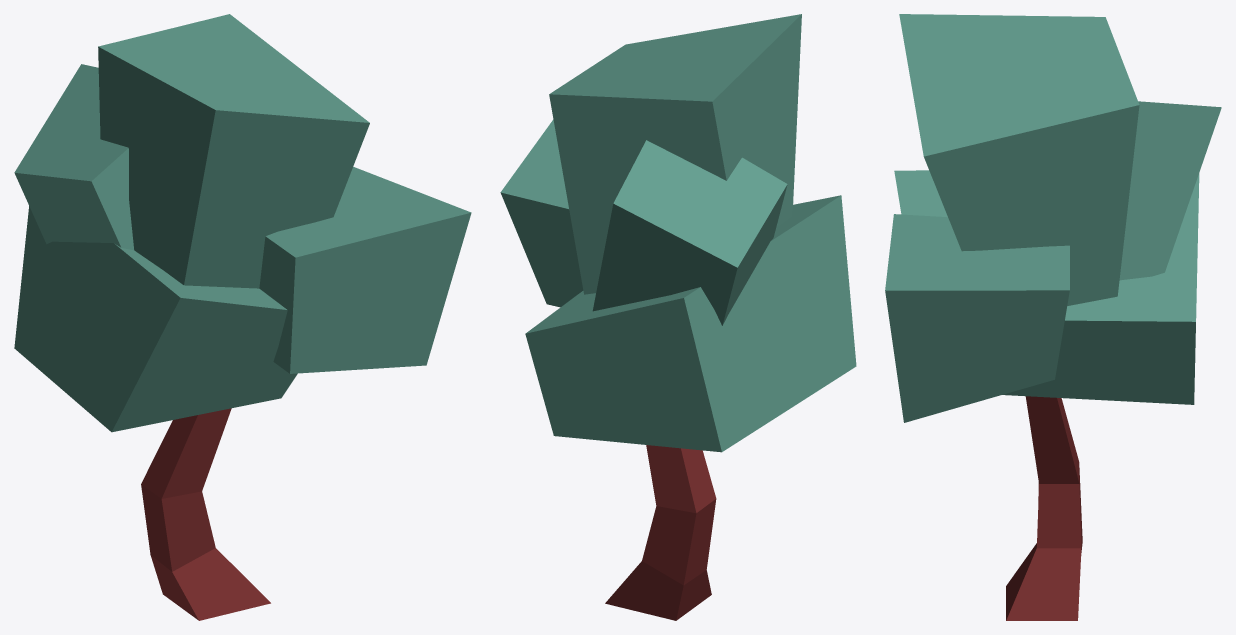
File: Tree1.fbx
3 renders of one model, left to right at view 1: azimuth 30°, elevation 25°; view 2: azimuth 150°, elevation 25°; view 3: azimuth 270°, elevation 25°, orthographic.
Visible parts, largest first — view 1: Tree1; view 2: Tree1; view 3: Tree1.
Boxes of the visible parts, x1=… form: Tree1: x1=14, y1=14, x2=471, y2=620; Tree1: x1=500, y1=14, x2=856, y2=620; Tree1: x1=885, y1=14, x2=1221, y2=620.
Size of the model in its own units: 670 by 1091 by 601.
